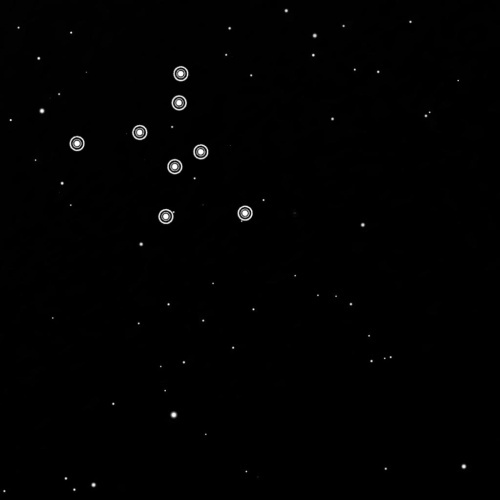hercules: (67, 62, 257, 229)
